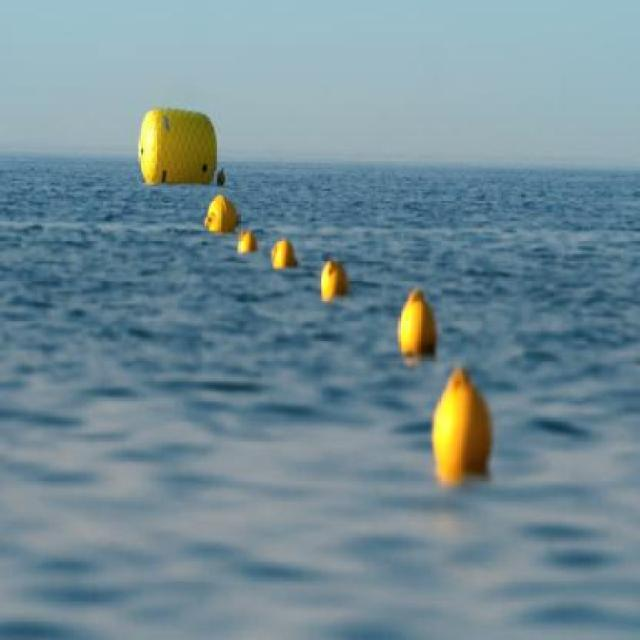a: (425, 362, 502, 499), (132, 93, 224, 184), (391, 281, 448, 367), (316, 254, 355, 313), (203, 190, 244, 237), (269, 236, 304, 276), (238, 228, 261, 263)
